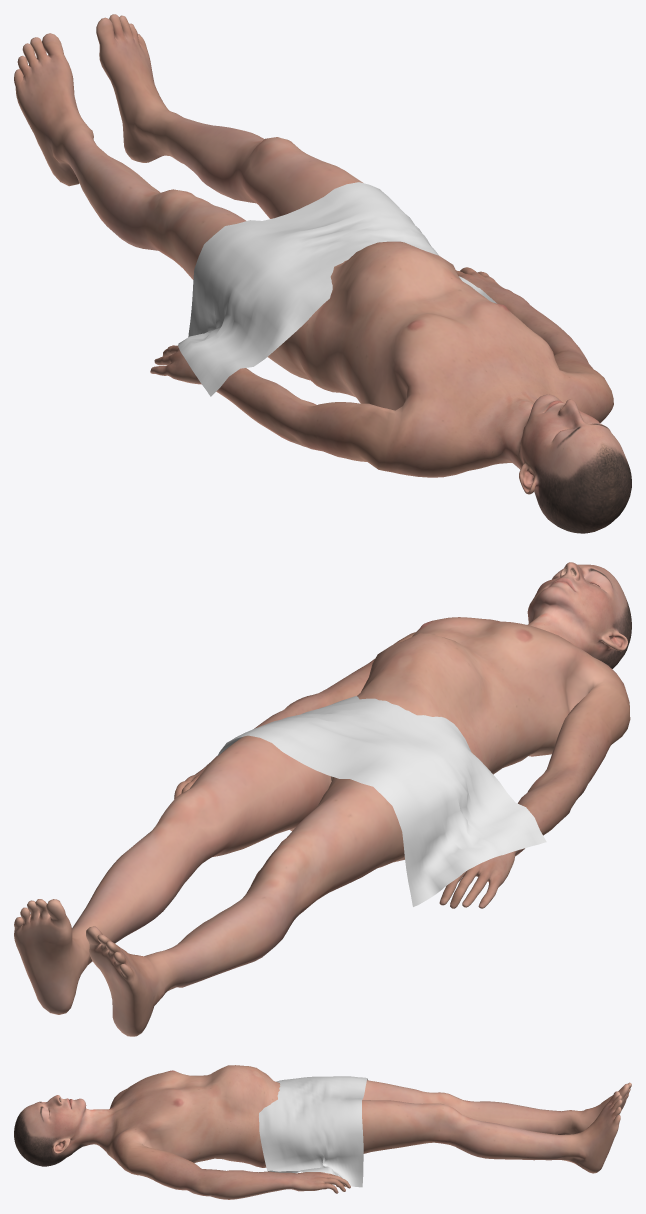
File: patient model_inflated.fbx
3 renders of one model, top to bottom at view 1: azimuth 30°, elevation 25°; view 2: azimuth 150°, elevation 25°; view 3: azimuth 270°, elevation 25°, orthographic. The views are drawn at different scales.
Parts seen in each view (by area): view 1: Body; view 2: Body; view 3: Body.
Part boxes in pixels (x1,y1,x2,y2): Body: (14, 14, 631, 533); Body: (14, 562, 631, 1036); Body: (14, 1065, 631, 1199).
Bounding box in the file's own units: 0.6425 × 1.86 × 0.3125.
Materials: 2 (1 with a texture image).
